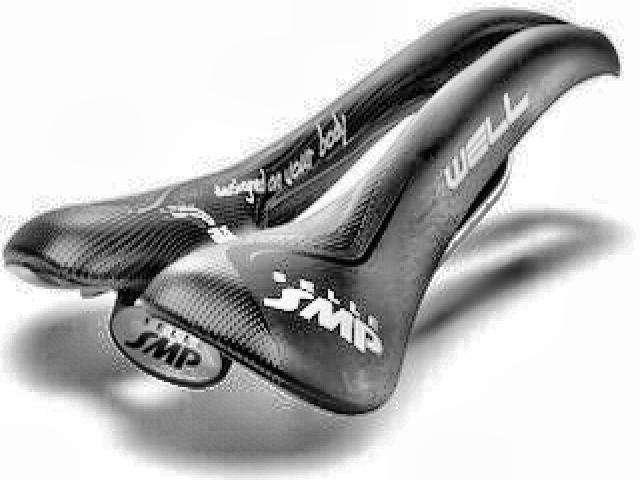saddle: (6, 8, 622, 420)
